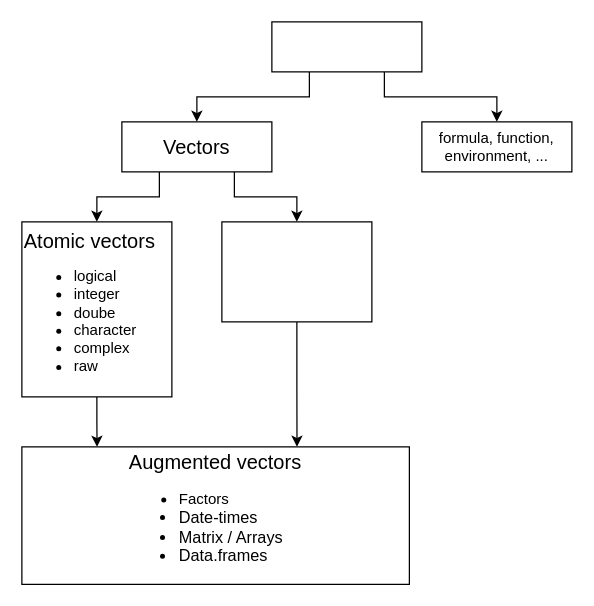
Some shapes in this 594 by 606 pixel diagram are drawn without their labels. Each missing label, with the centre of its shape:
"List recursive vectors (vectors that can contain vectors)" goes at [296,271].
"Objects" goes at [346,46].
